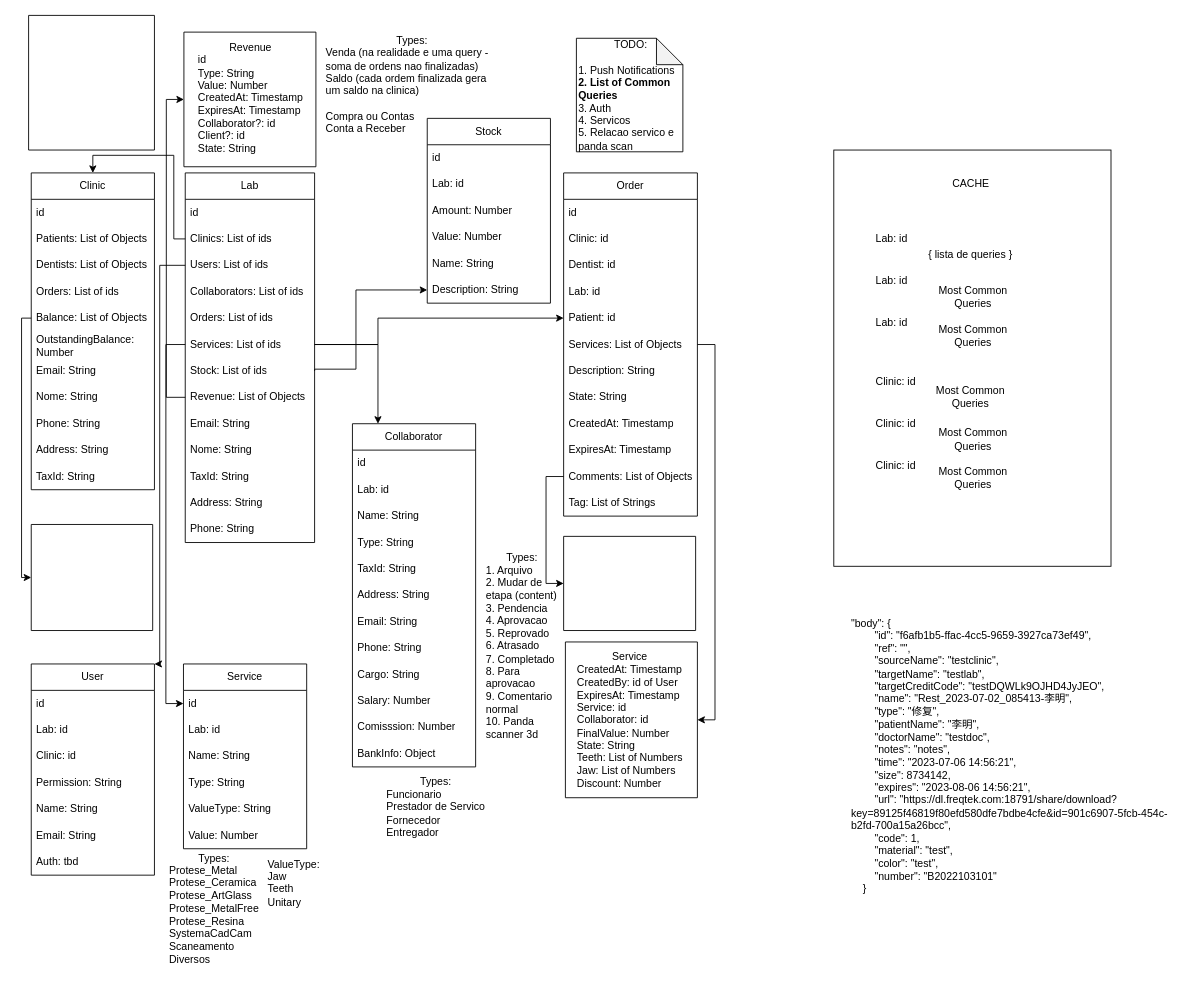
The diagram is 1197 pixels wide and 994 high, and some of its shapes have lost their labels. The centre of each missing label's shape, as x and y in pixels:
"Balance id Value: Number CreatedAt: Timestamp ExpiresAt: Timestamp Order: id" belongs at point (91, 577).
"Comment CreatedAt: Timestamp CreatedBy: id of User Content: String Type: String" belongs at point (629, 583).
"Patient/Dentist id Name: String TaxId: String ..." belongs at point (91, 82).
